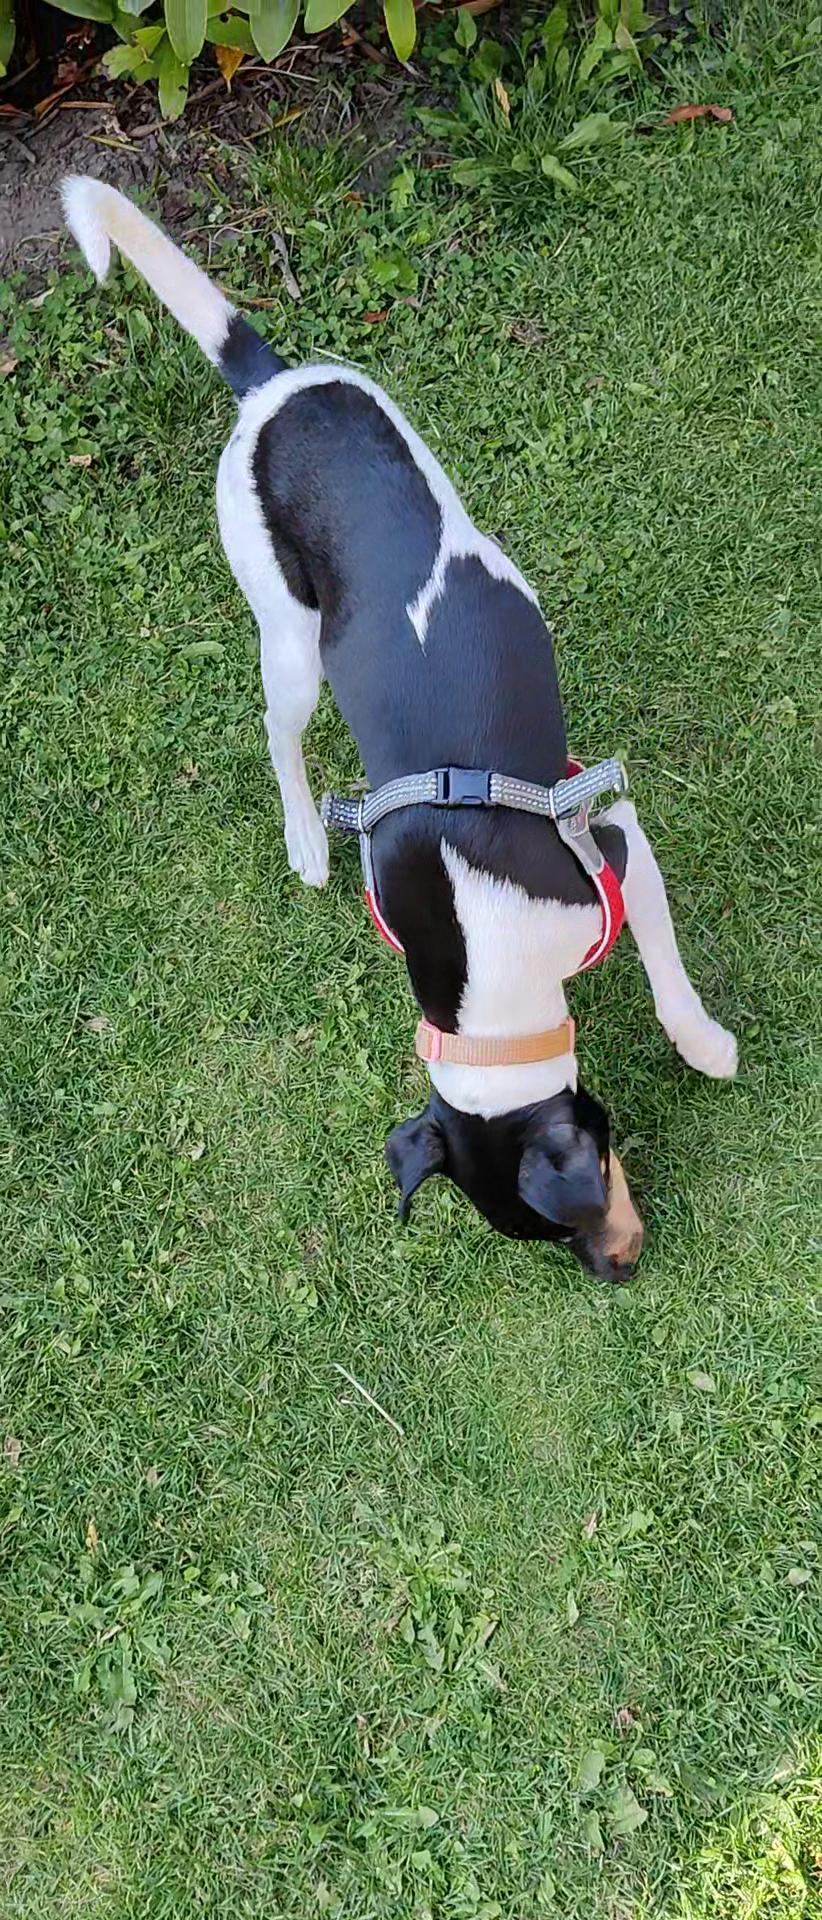Dog: (55, 164, 767, 1307)
